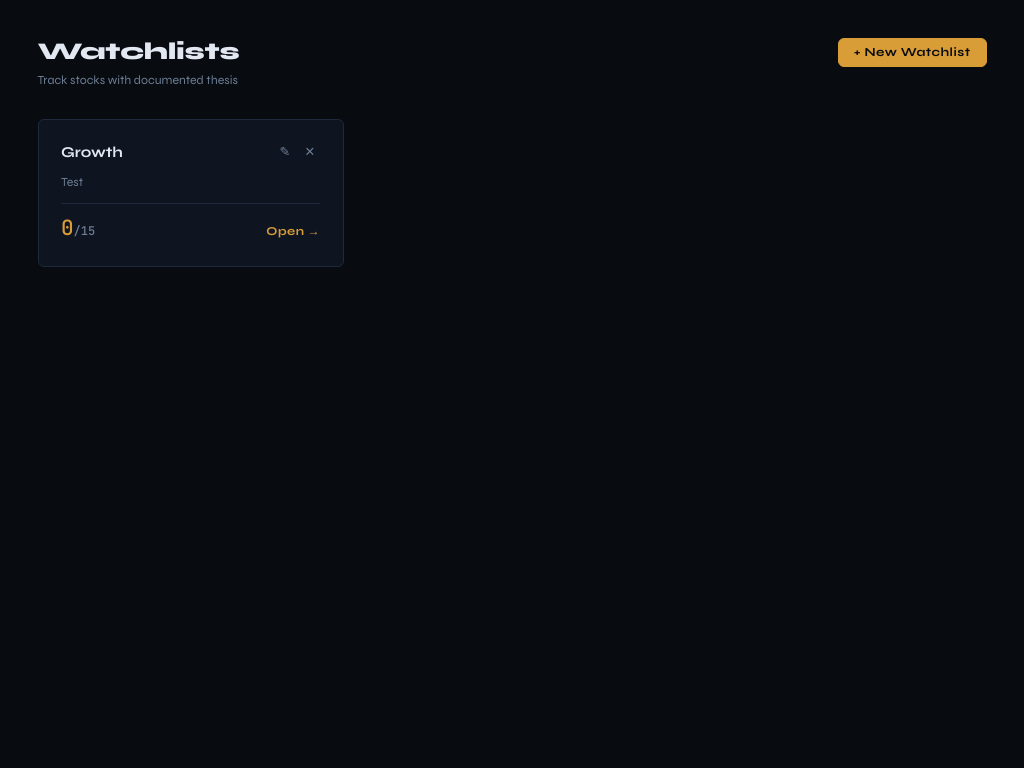
Test: WatchlistsView › opens edit modal on edit button click
Click the button with class "icon-btn" showing "✎" at [285, 152], box [274,143,295,162]
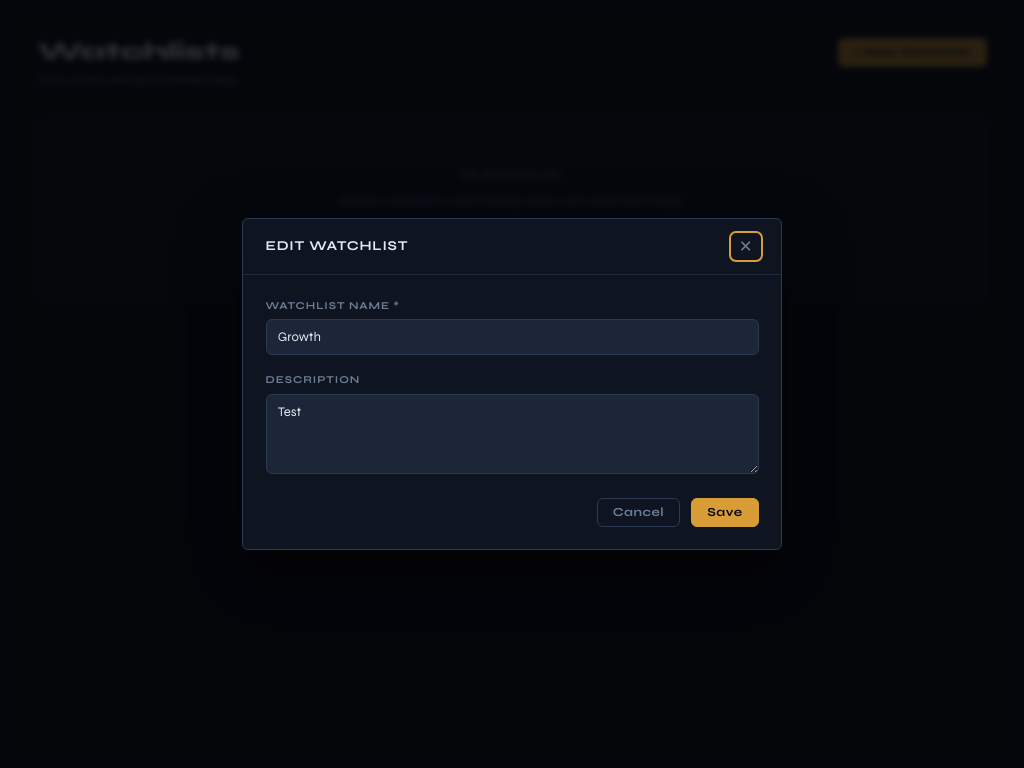
Expected: the element with class "modal" is shown, [242,218,782,550]
Expected: the text "Edit Watchlist" is shown, [266,236,408,256]
